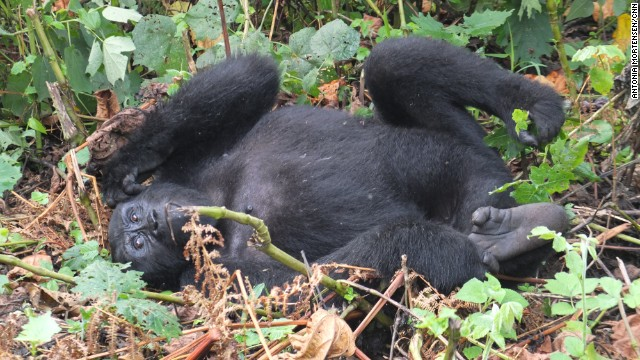Goriila: (90, 35, 569, 341)
